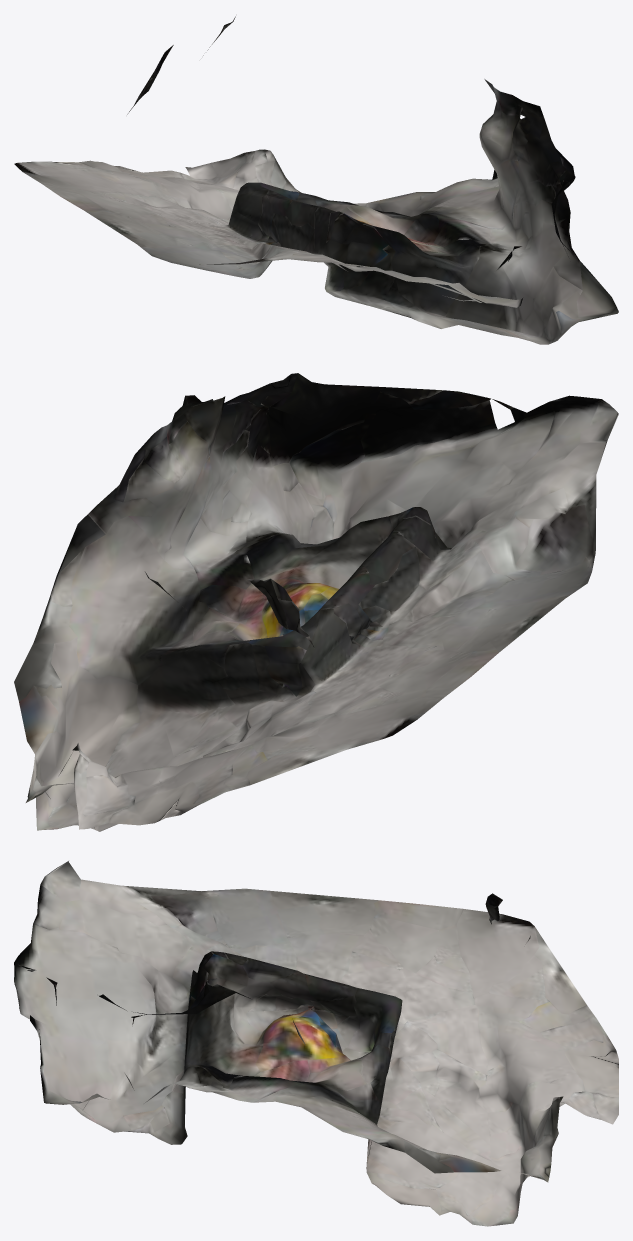
Rendered from hall.glb.
3 views of the same model, one above another, from view 1: azimuth 30°, elevation 25°; view 2: azimuth 150°, elevation 25°; view 3: azimuth 270°, elevation 25° (orthographic). The views are drawn at different scales.
Size of the model in its own units: 1.31 by 0.7975 by 1.8.
1 material, 1 textured.
